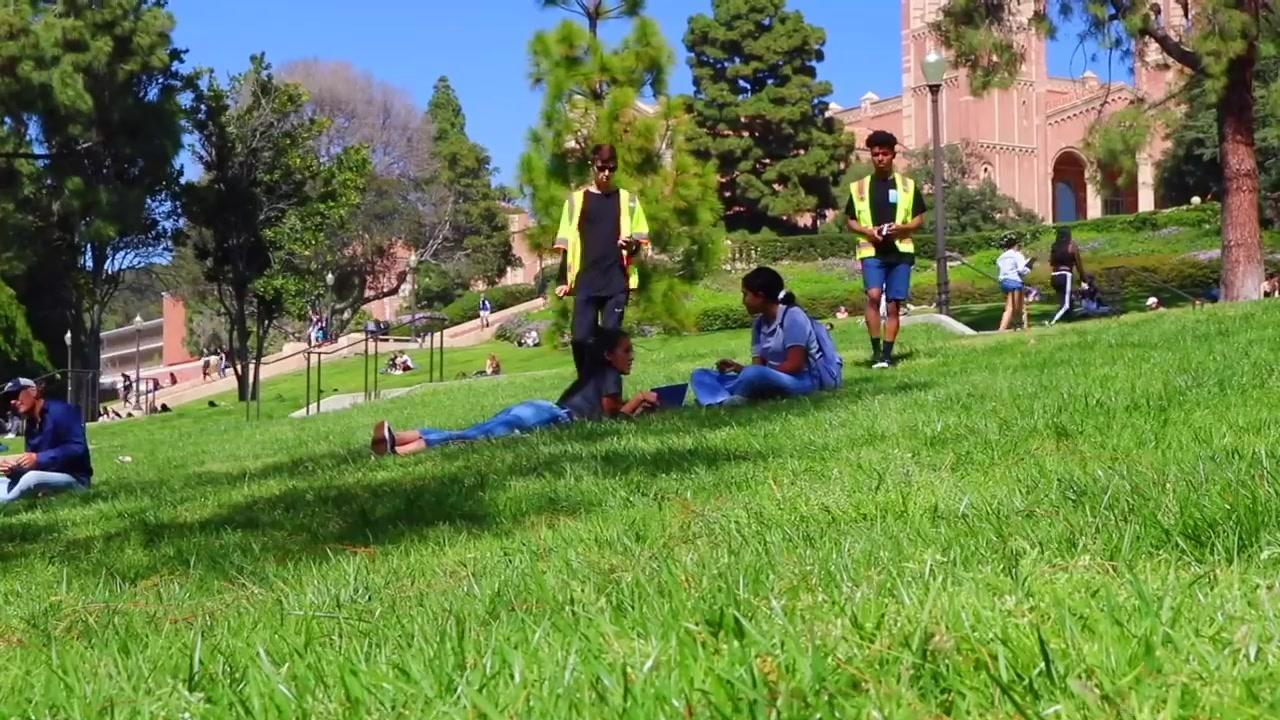vest: (547, 187, 655, 291), (844, 174, 919, 259)
